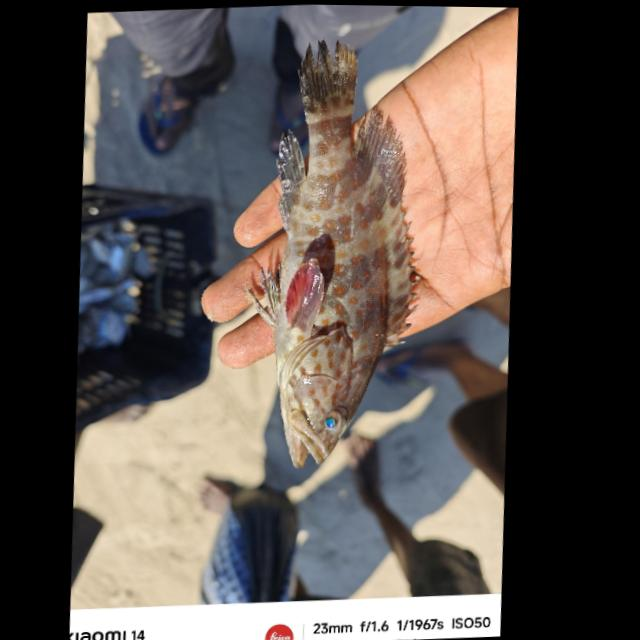Groupers: (241, 34, 447, 464)
